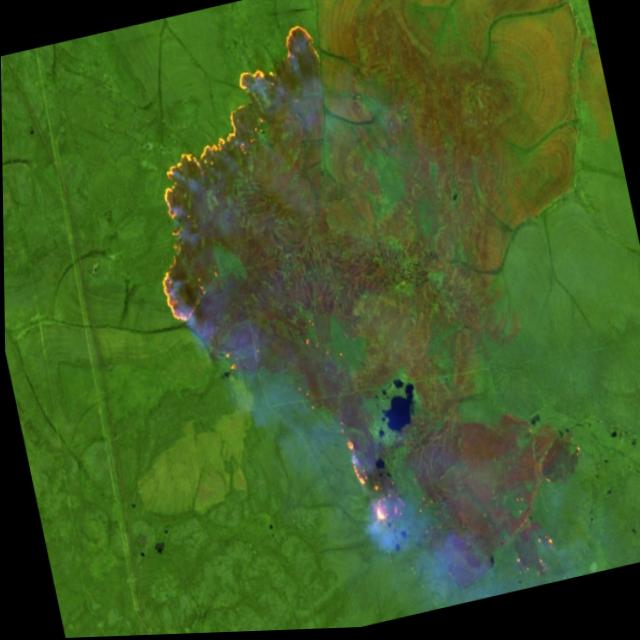fire: (111, 11, 372, 340), (330, 428, 406, 542)
